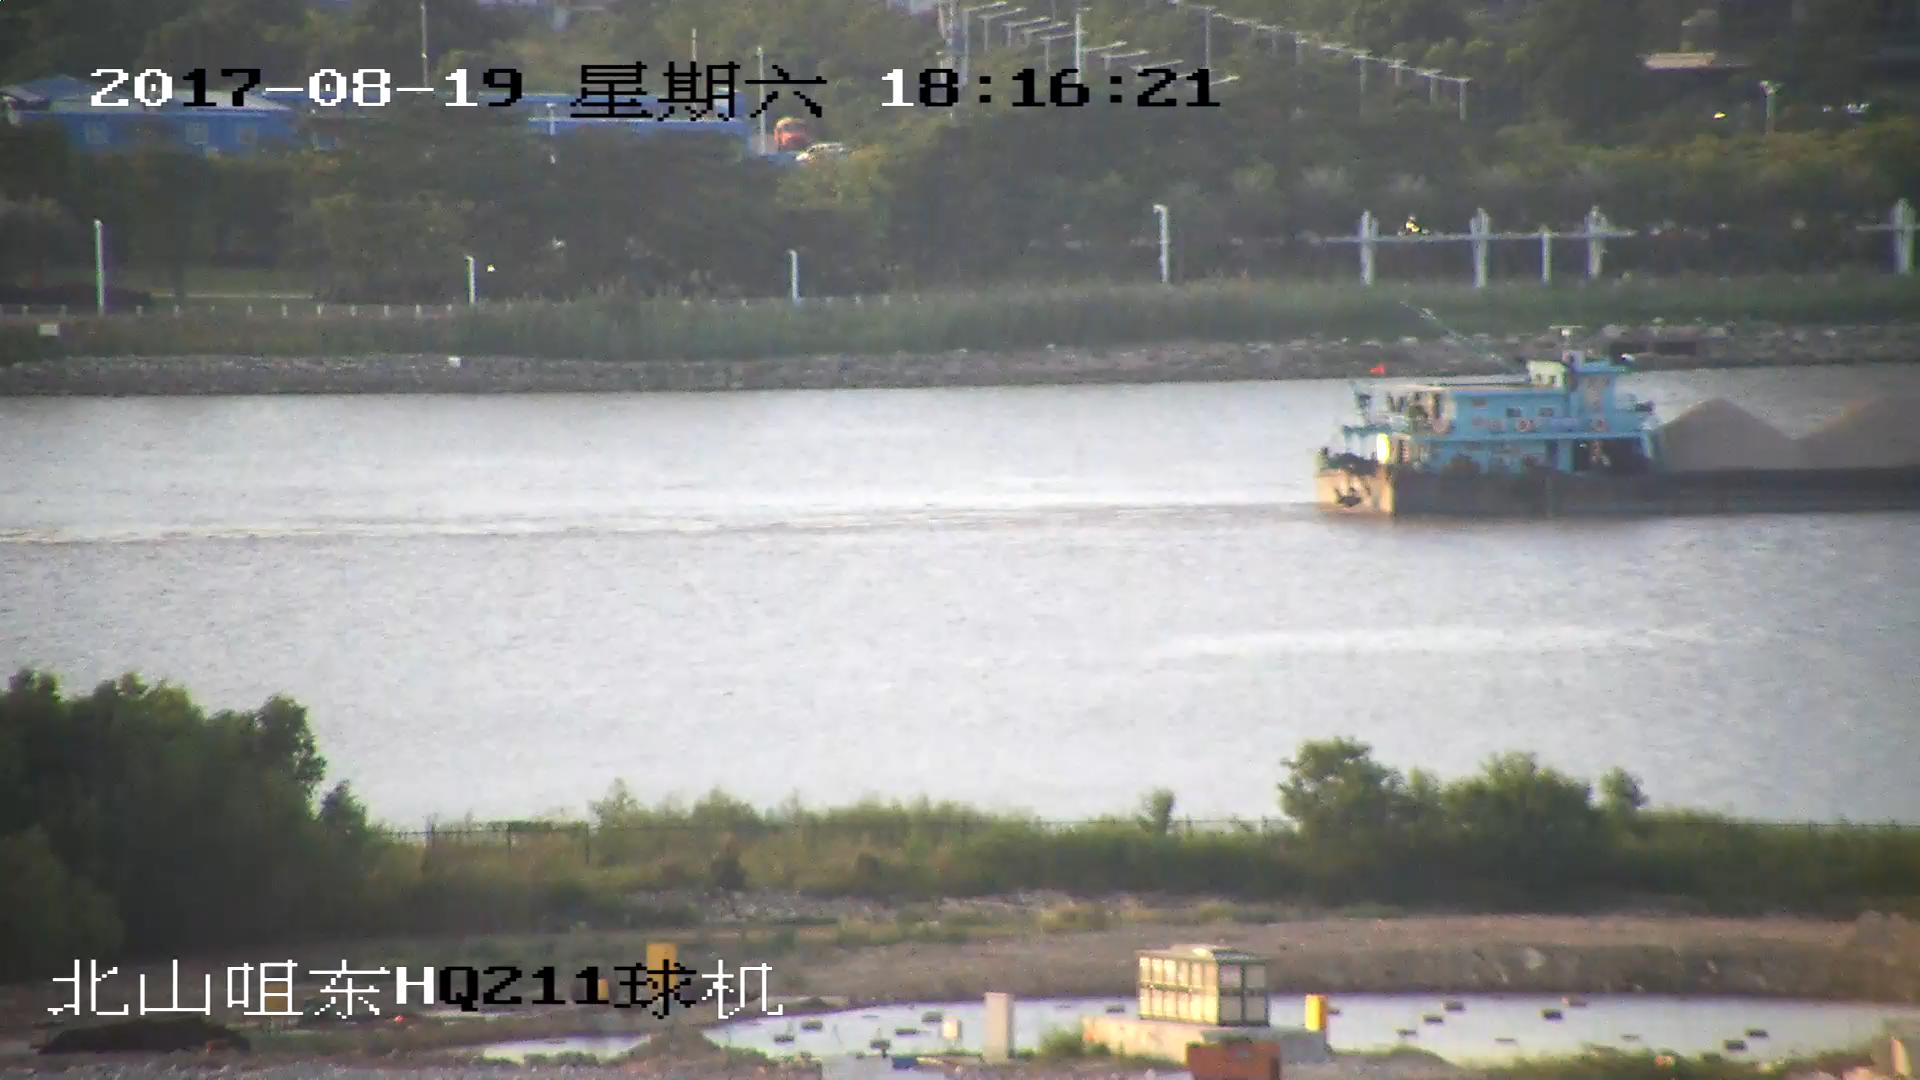ore carrier: (1309, 325, 1920, 518)
